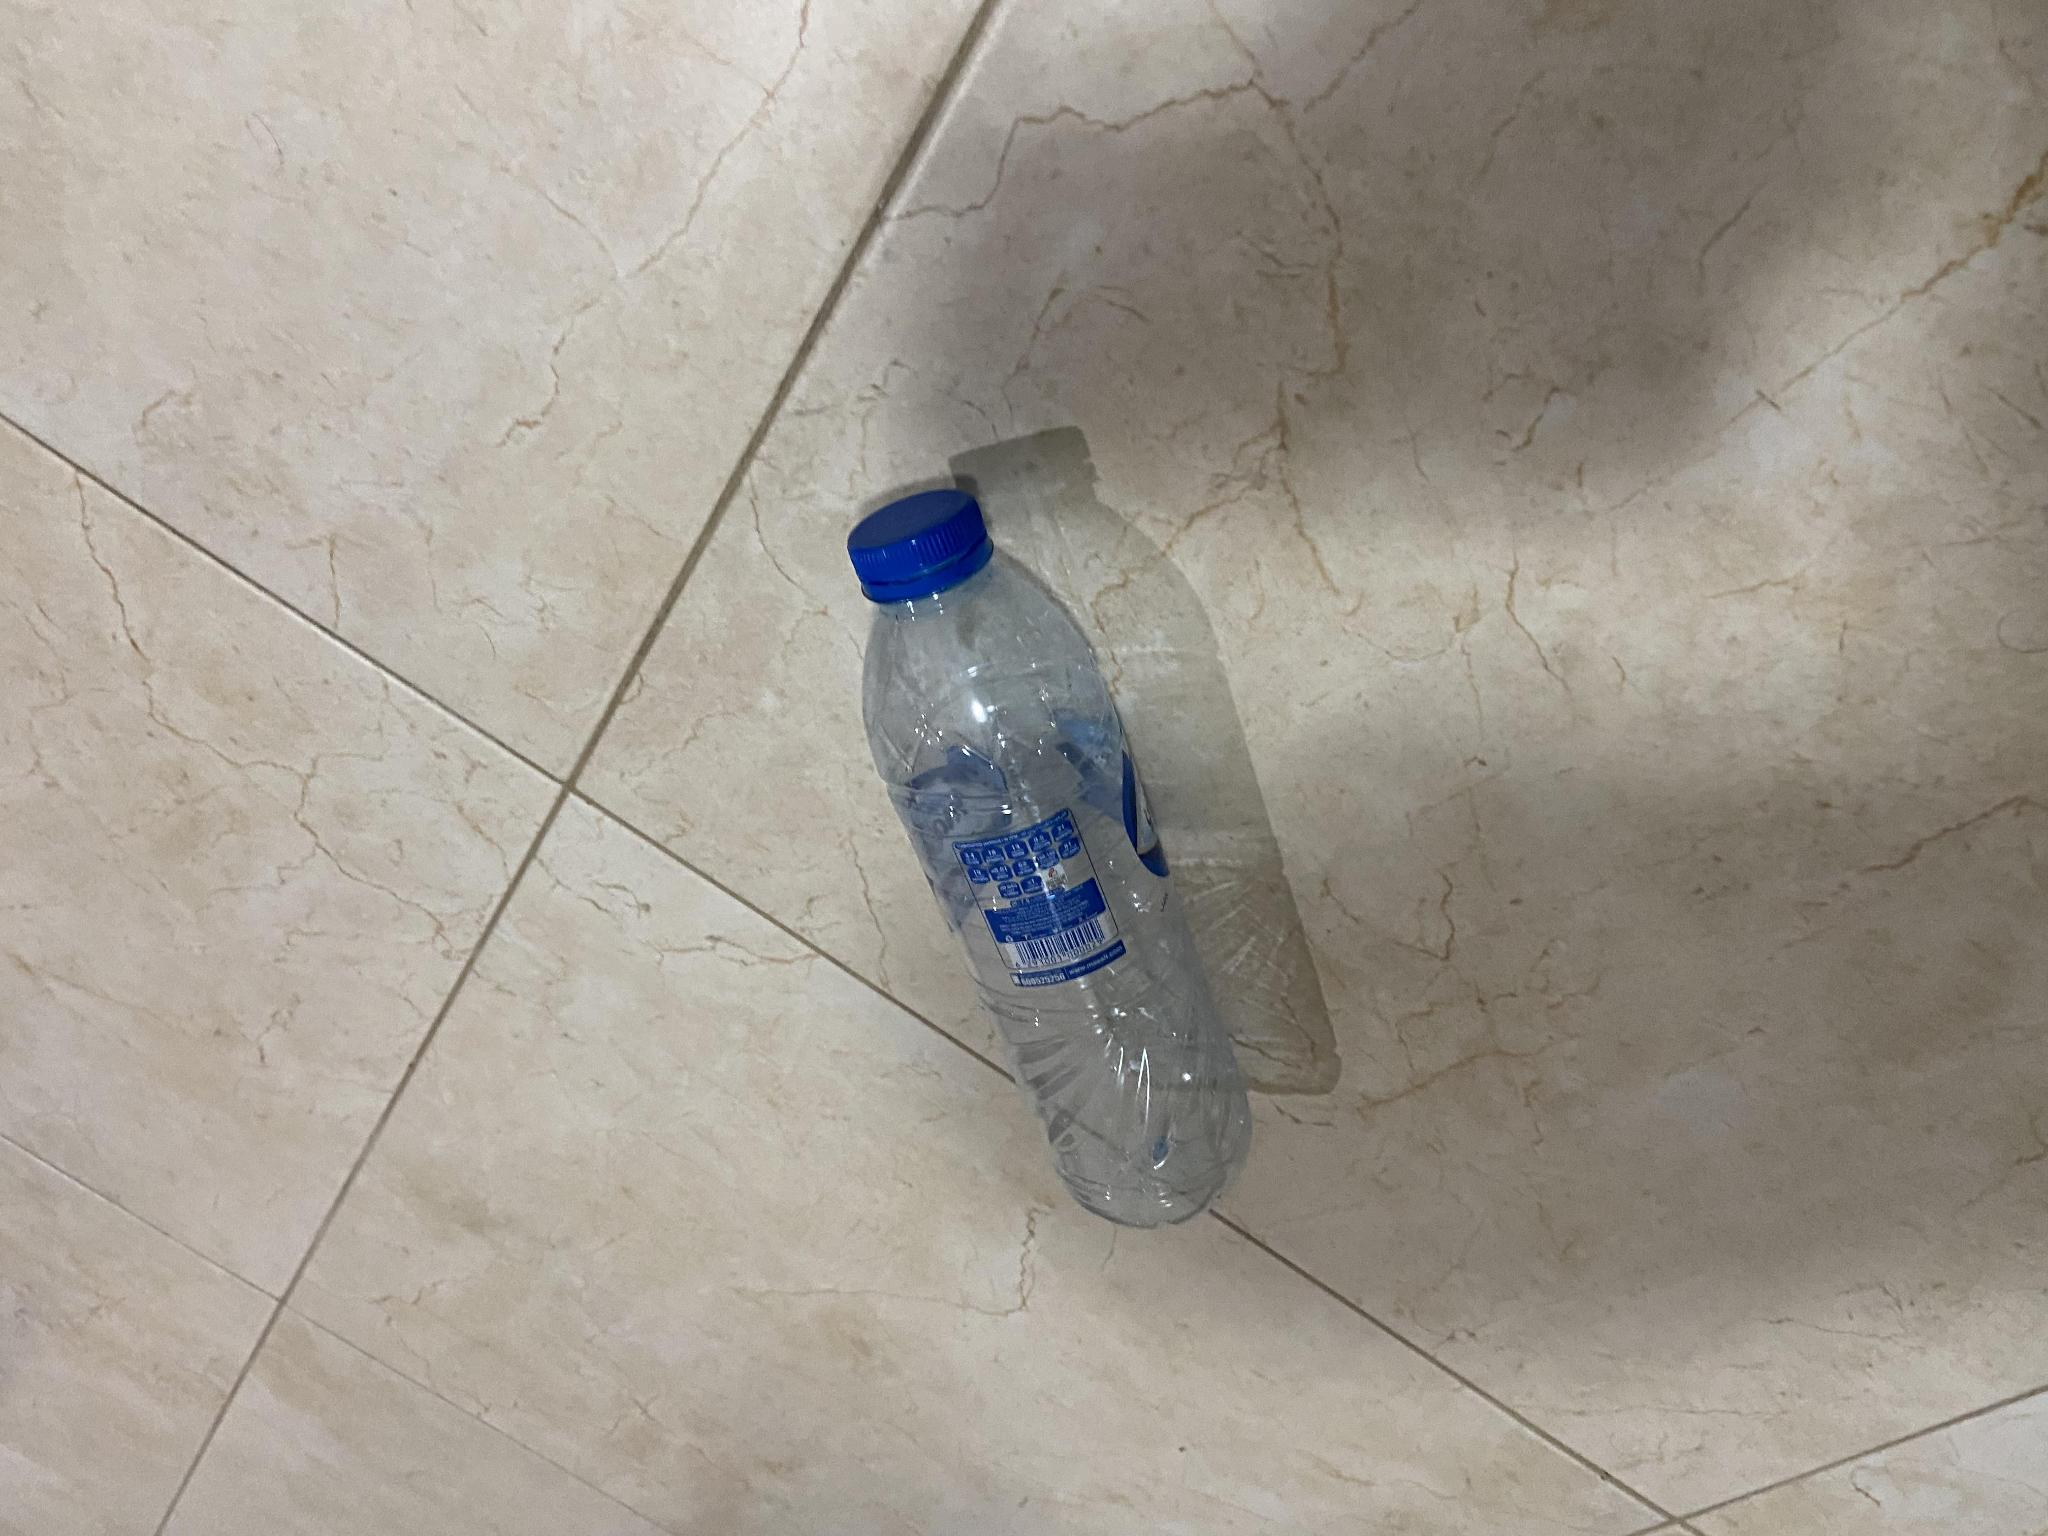bottle: (826, 463, 1285, 1238)
